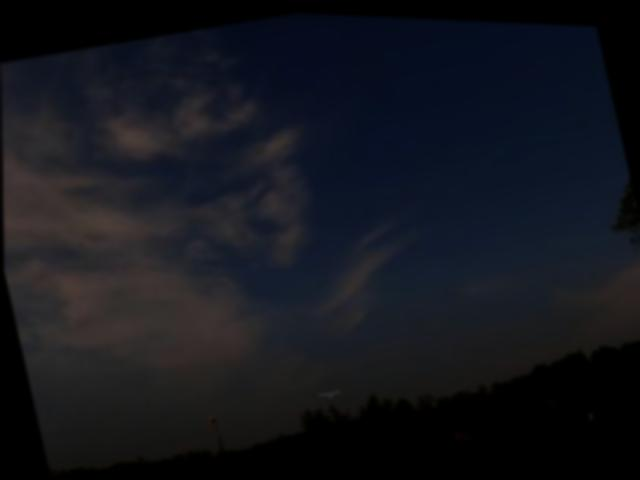iha: (318, 384, 339, 398)
